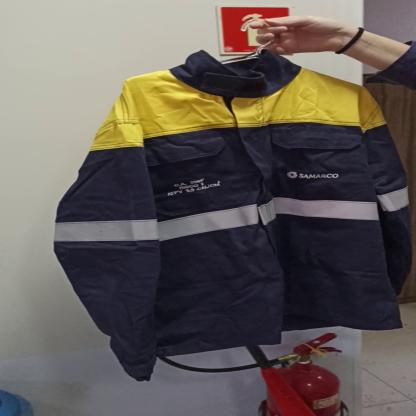C_eletrica: (51, 54, 413, 380)
